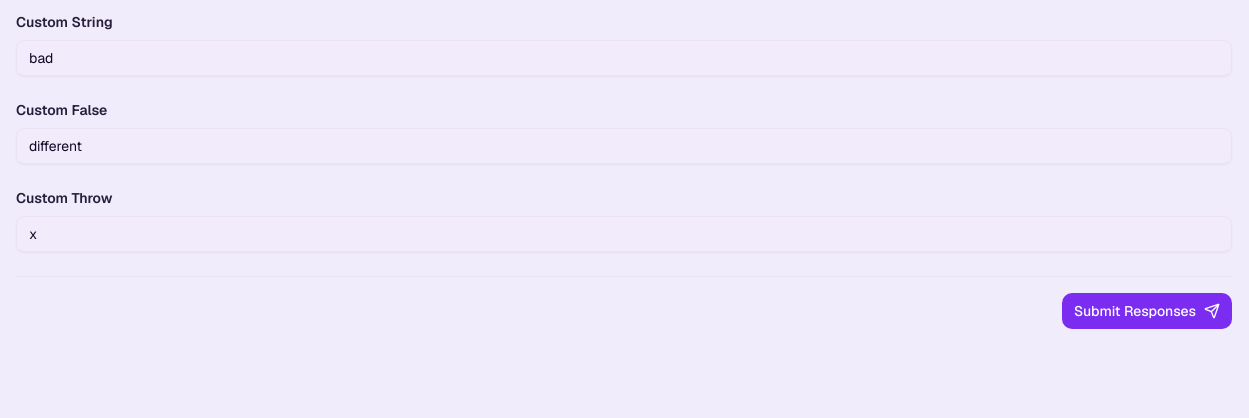
DynamicSurveyForm › validates custom validators, caches snippets, and uses fallback messages
The width and height of the screenshot is (1249, 418).
Click the button "Submit Responses" at {"x": 1147, "y": 311}, box [1062,293,1232,329]
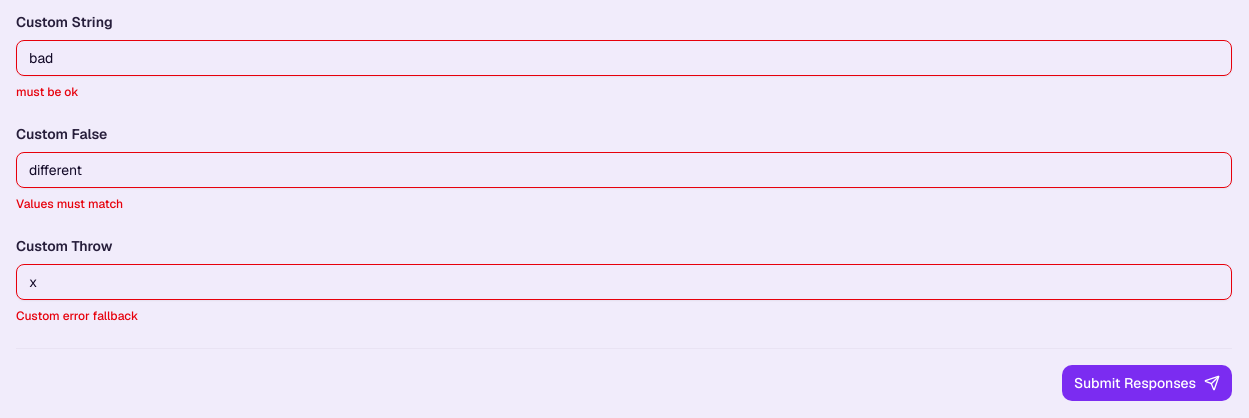
Expected: the text "must be ok" is shown, [16,84,78,100]
Expected: the text "Values must match" is shown, [16,196,123,212]
Expected: the text "Custom error fallback" is shown, [16,308,138,324]
